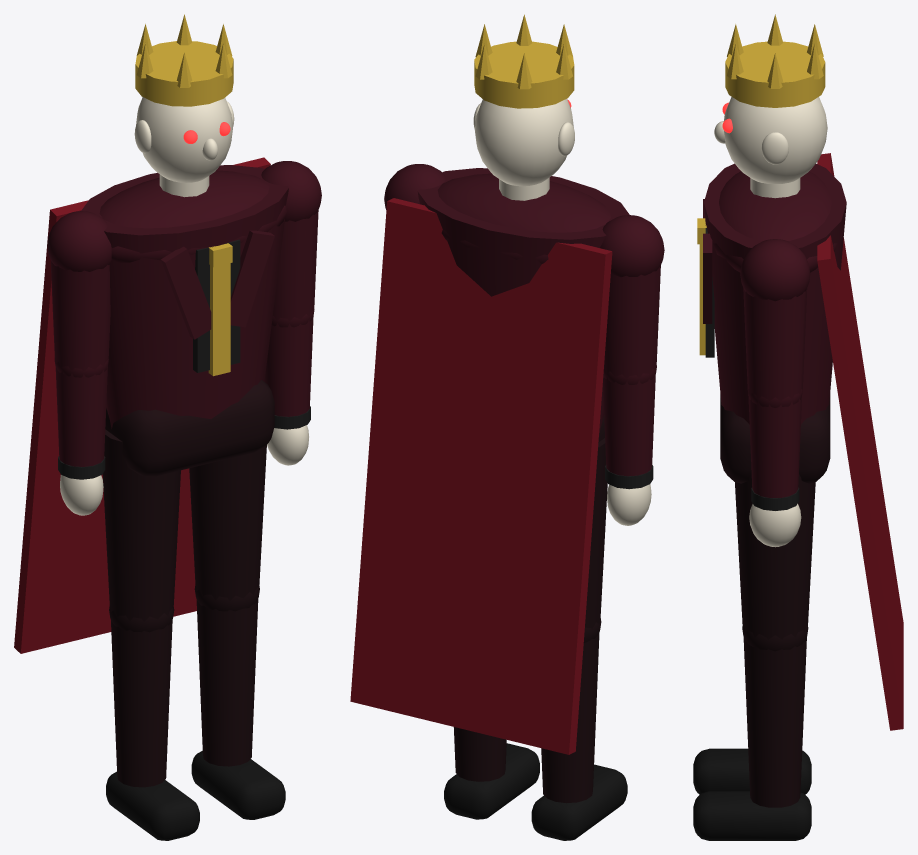
File: lord_tuetano.glb
3 views of the same model, side by side, from view 1: azimuth 30°, elevation 25°; view 2: azimuth 150°, elevation 25°; view 3: azimuth 270°, elevation 25° (orthographic). The views are drawn at different scales.
Parts seen in each view (by area): view 1: body, leg_L, leg_R, arm_L, arm_R; view 2: body, arm_L, leg_L, leg_R, arm_R; view 3: body, leg_R, arm_R, leg_L.
Boxes of the visible parts, <box> form: body: <box>14,14,288,653</box>; leg_L: <box>102,429,199,840</box>; leg_R: <box>189,445,285,819</box>; arm_L: <box>47,211,111,515</box>; arm_R: <box>261,161,321,465</box>; body: <box>350,14,629,754</box>; arm_L: <box>600,215,664,525</box>; leg_L: <box>531,438,627,840</box>; leg_R: <box>444,727,539,819</box>; arm_R: <box>384,164,445,209</box>; body: <box>697,14,903,730</box>; leg_R: <box>693,474,815,840</box>; arm_R: <box>740,239,810,547</box>; leg_L: <box>693,748,811,794</box>.
Size of the model in its own units: 0.682 by 1.89 by 0.4619.
